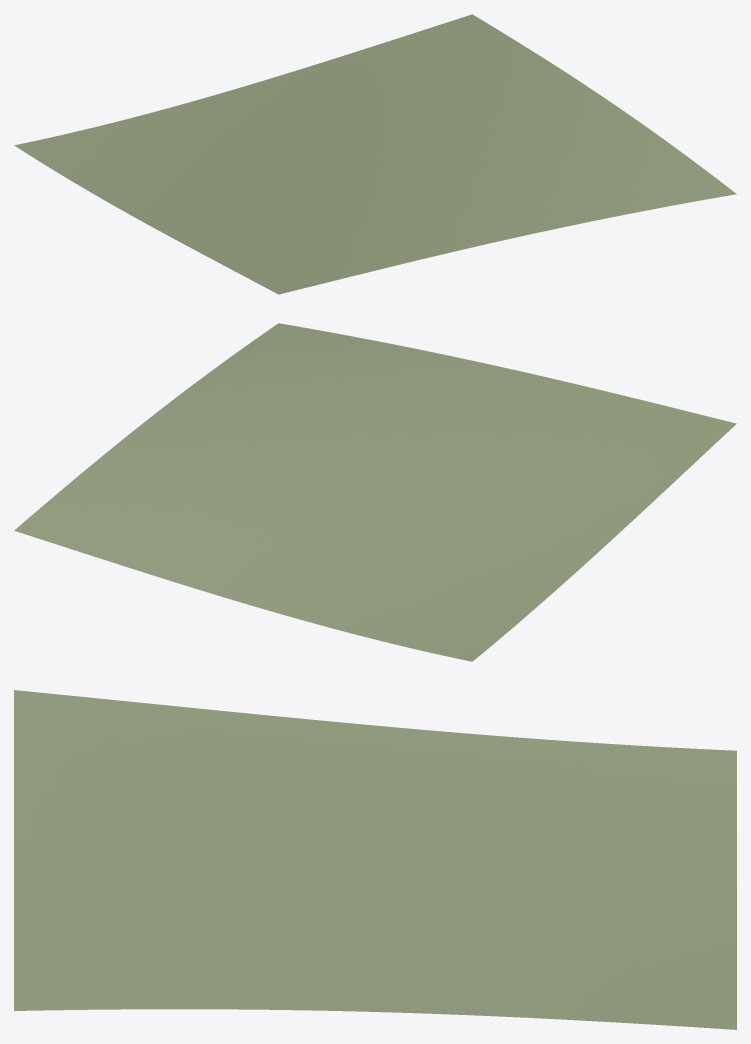
The model's file is alpine-14-2.glb.
The picture shows the model from 3 angles, top to bottom: view 1: azimuth 30°, elevation 25°; view 2: azimuth 150°, elevation 25°; view 3: azimuth 270°, elevation 25°; orthographic projection. The views are drawn at different scales.
Parts seen in each view (by area): view 1: alpine-14-2; view 2: alpine-14-2; view 3: alpine-14-2.
Boxes of the visible parts, left/top/right/bottom form: alpine-14-2: left=14, top=14, right=736, bottom=294; alpine-14-2: left=14, top=323, right=736, bottom=661; alpine-14-2: left=14, top=690, right=736, bottom=1029.
Bounding box in the file's own units: 256 × 24.75 × 256.
